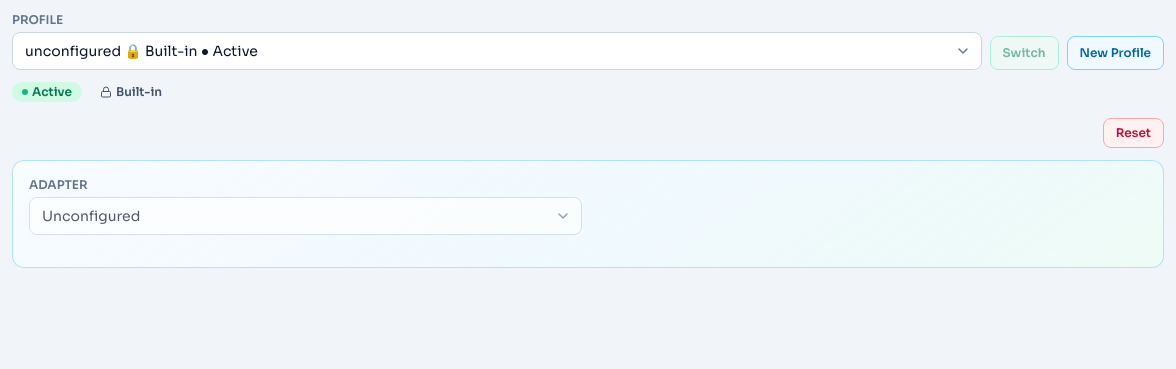
Test: PlatformConfigSection with ProfileSelector › preserves none auth type when switching to a no-auth profile
Select "custom-no-auth" in the dropdown with test id "profile-dropdown" at (497, 51), box [12,32,982,70]
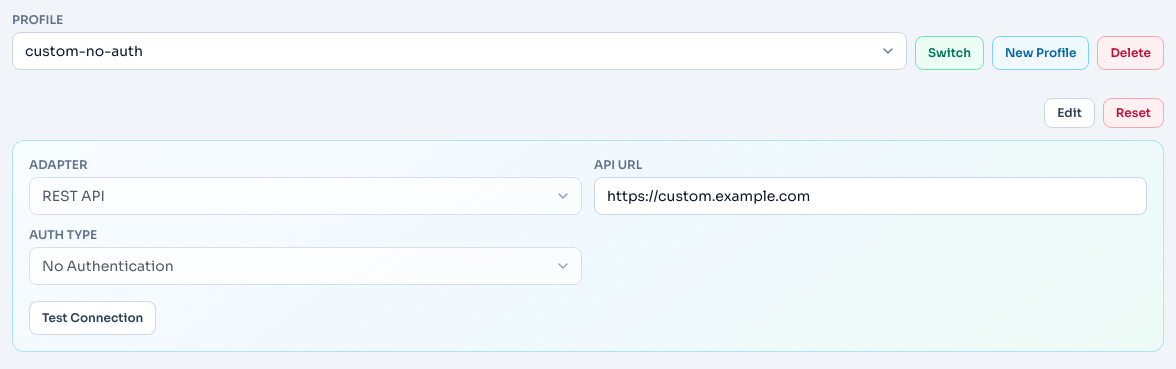
Expected: the dropdown labelled "Auth Type" shows "No Authentication", [29,247,582,285]
